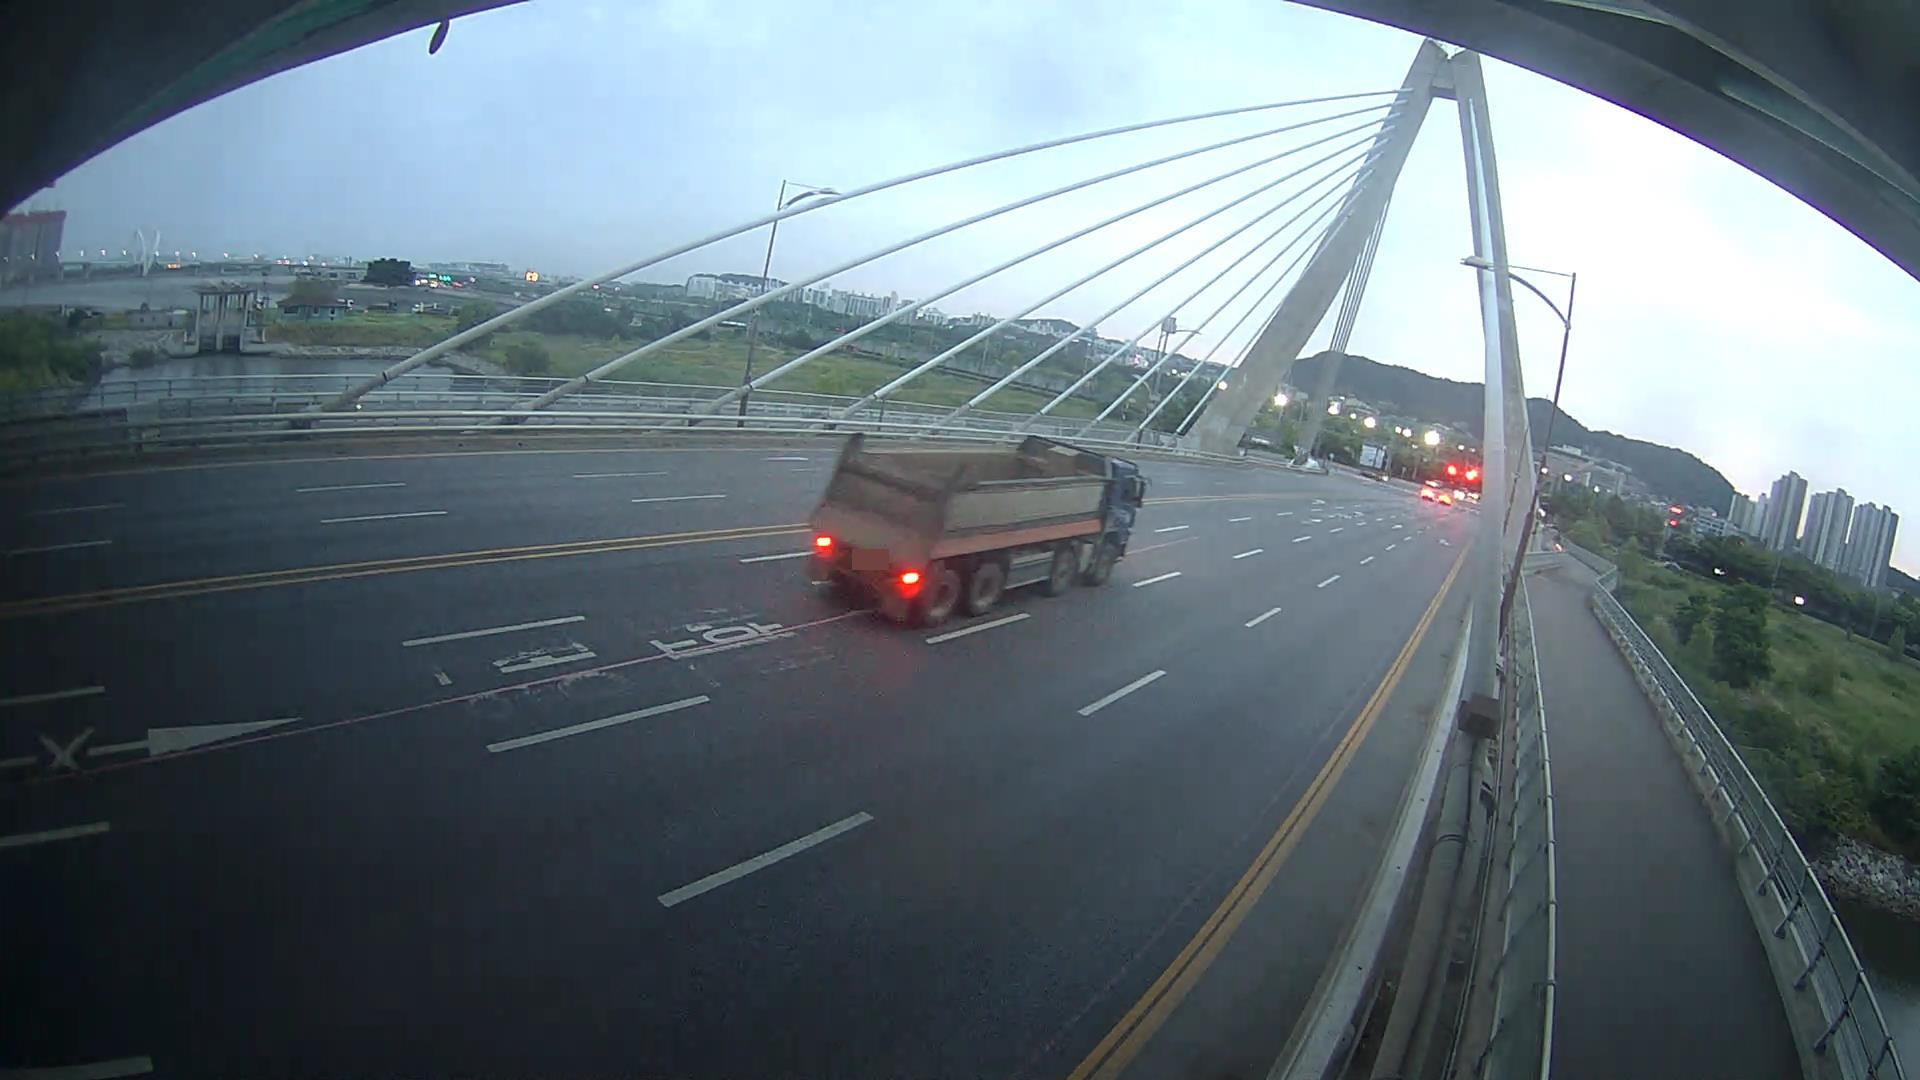정상차량: (804, 435, 1153, 629)
